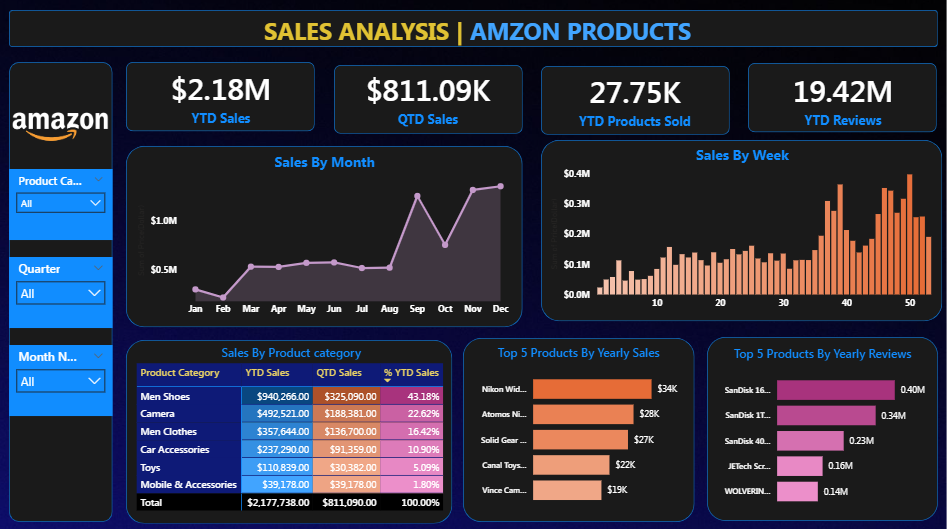

This screenshot's page, from the dashboard's own definition file:
{"tool":"powerbi","page":{"name":"Page 1","canvas":[1280,720],"ordinal":0},"visuals":[{"type":"shape","box":[13.3,13.3,1255.4,50],"z":0,"group":"g2"},{"type":"shape","box":[171.8,83.3,255.1,93.6],"z":0,"group":"g3"},{"type":"textbox","box":[339.4,13.3,615,52.9],"z":1000,"group":"g2"},{"type":"card","fields":{"Values":["Amazon_Data.YTD Sales"]},"box":[207.7,85.9,183.3,88.5],"z":1000,"group":"g3"},{"type":"shape","box":[13.3,83.3,140,621.7],"z":2000},{"type":"shape","box":[452.2,87.1,255,93],"z":2000,"group":"g4"},{"type":"shape","box":[732.5,88.4,255,93],"z":3000,"group":"g5"},{"type":"shape","box":[1012.8,85.2,255.1,93.6],"z":4000,"group":"g6"},{"type":"shape","box":[732.1,189.7,542.3,244.9],"z":4000,"group":"g8"},{"type":"shape","box":[171.8,197.4,535.9,244.9],"z":4000,"group":"g9"},{"type":"card","fields":{"Values":["Amazon_Data.QTD Sales"]},"box":[486.8,87.1,183.3,88.5],"z":5000,"group":"g4"},{"type":"areaChart","title":"Sales By Month","fields":{"Category":["Date Table.Month Name"],"Y":["Sum(Amazon_Data.Price(Dollar))"]},"box":[182.1,205.1,515.4,230.8],"z":5000,"group":"g9"},{"type":"columnChart","title":"Sales By Week","fields":{"Category":["Date Table.Week"],"Y":["Sum(Amazon_Data.Price(Dollar))"]},"box":[739.8,196.1,528.2,232.1],"z":5002,"group":"g8"},{"type":"shape","box":[171.8,459,440.8,248.3],"z":5004,"group":"g1"},{"type":"pivotTable","title":"Sales By Product category","fields":{"Rows":["Amazon_Data.Product Category"],"Values":["Amazon_Data.YTD Sales1","Amazon_Data.QTD Sales","Amazon_Data.YTD Sales"]},"box":[180.6,464.9,427.6,242.4],"z":5005,"group":"g1"},{"type":"shape","box":[626.9,456.4,312.8,248.7],"z":5006,"group":"g10"},{"type":"group","id":"g1","title":"Group 4","box":[171.8,459,439.7,248.7],"z":5007},{"type":"shape","box":[957,456.1,312.1,248.6],"z":5008},{"type":"group","id":"g2","title":"Group 5","box":[13.3,13.3,1255,53.3],"z":5009},{"type":"card","fields":{"Values":["Amazon_Data.YTD Products Sold"]},"box":[767.1,89.7,183.3,88.5],"z":6000,"group":"g5"},{"type":"card","fields":{"Values":["Amazon_Data.YTD Reviews"]},"box":[1048.7,89,183.3,88.5],"z":7000,"group":"g6"},{"type":"group","id":"g3","title":"Group 1","box":[171.8,83.3,255.1,93.6],"z":7001,"group":"g7"},{"type":"group","id":"g4","title":"Group 6","box":[452.2,87.1,255,93],"z":7002,"group":"g7"},{"type":"group","id":"g5","title":"Group 7","box":[732.5,88.4,255,93],"z":7003,"group":"g7"},{"type":"group","id":"g6","title":"Group 8","box":[1012.8,85.2,255.1,93.6],"z":7004,"group":"g7"},{"type":"group","id":"g7","title":"Group 9","box":[171.8,83.3,1096.2,98.1],"z":7005},{"type":"group","id":"g8","title":"Group 2","box":[732.1,189.7,542.3,244.9],"z":7006},{"type":"group","id":"g9","title":"Group 3","box":[171.8,197.4,535.9,244.9],"z":7007},{"type":"clusteredBarChart","title":"Top 5 Products By Yearly Sales","fields":{"Y":["Amazon_Data.YTD Sales"],"Category":["Amazon_Data.Product Description"]},"box":[633.1,464.6,299.2,228.5],"z":7008,"group":"g10"},{"type":"clusteredBarChart","title":"Top 5 Products By Yearly Reviews","fields":{"Y":["Amazon_Data.YTD Reviews"],"Category":["Amazon_Data.Product Description"]},"box":[963.3,466.7,298.9,228.9],"z":7009},{"type":"group","id":"g10","title":"Group 10","box":[626.9,456.4,312.8,248.7],"z":7010},{"type":"slicer","fields":{"Values":["Amazon_Data.Product Category"]},"box":[13.5,228.3,139.6,96.1],"z":7011,"group":"g11"},{"type":"slicer","fields":{"Values":["Date Table.Ouarter"]},"box":[13.9,347.7,139.6,95.7],"z":7012,"group":"g11"},{"type":"slicer","fields":{"Values":["Date Table.Month Name"]},"box":[13.9,466.6,139.6,96.1],"z":7013,"group":"g11"},{"type":"image","box":[13.8,145,139.6,60.1],"z":7014,"group":"g11"},{"type":"group","id":"g11","title":"Group 11","box":[13.5,145,140,417.6],"z":7015}]}

Visuals, with their boxes in screenshot pixels (x1, y1, x2, y2), scaled from the page's 1280x720 canvas onto the 947x529 screenshot:
shape: (10, 10, 939, 47)
shape: (127, 61, 316, 130)
textbox: (251, 10, 706, 49)
card - Amazon_Data.YTD Sales: (154, 63, 289, 128)
shape: (10, 61, 113, 518)
shape: (335, 64, 523, 132)
shape: (542, 65, 731, 133)
shape: (749, 63, 938, 131)
shape: (542, 139, 943, 319)
shape: (127, 145, 524, 325)
card - Amazon_Data.QTD Sales: (360, 64, 496, 129)
"Sales By Month" areaChart: (135, 151, 516, 320)
"Sales By Week" columnChart: (547, 144, 938, 315)
shape: (127, 337, 453, 520)
"Sales By Product category" pivotTable: (134, 342, 450, 520)
shape: (464, 335, 695, 518)
"Group 4" group: (127, 337, 452, 520)
shape: (708, 335, 939, 518)
"Group 5" group: (10, 10, 938, 49)
card - Amazon_Data.YTD Products Sold: (568, 66, 703, 131)
card - Amazon_Data.YTD Reviews: (776, 65, 911, 130)
"Group 1" group: (127, 61, 316, 130)
"Group 6" group: (335, 64, 523, 132)
"Group 7" group: (542, 65, 731, 133)
"Group 8" group: (749, 63, 938, 131)
"Group 9" group: (127, 61, 938, 133)
"Group 2" group: (542, 139, 943, 319)
"Group 3" group: (127, 145, 524, 325)
"Top 5 Products By Yearly Sales" clusteredBarChart: (468, 341, 690, 509)
"Top 5 Products By Yearly Reviews" clusteredBarChart: (713, 343, 934, 511)
"Group 10" group: (464, 335, 695, 518)
slicer - Amazon_Data.Product Category: (10, 168, 113, 238)
slicer - Date Table.Ouarter: (10, 255, 114, 326)
slicer - Date Table.Month Name: (10, 343, 114, 413)
image: (10, 107, 113, 151)
"Group 11" group: (10, 107, 114, 413)
